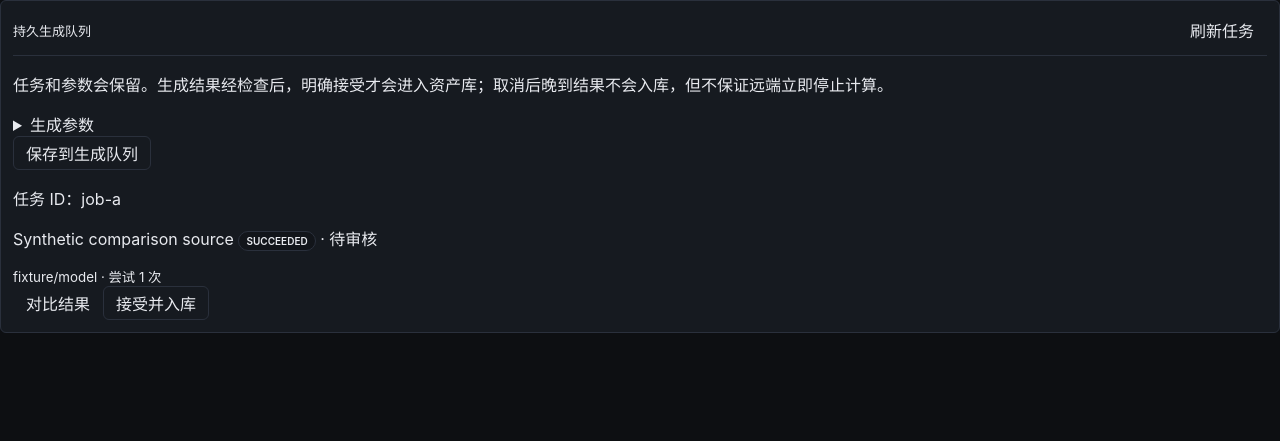
Test: keeps the old comparison entry metadata-only for PENDING candidates
Click the button "对比结果": coordinates (58, 303) [13,286,103,320]
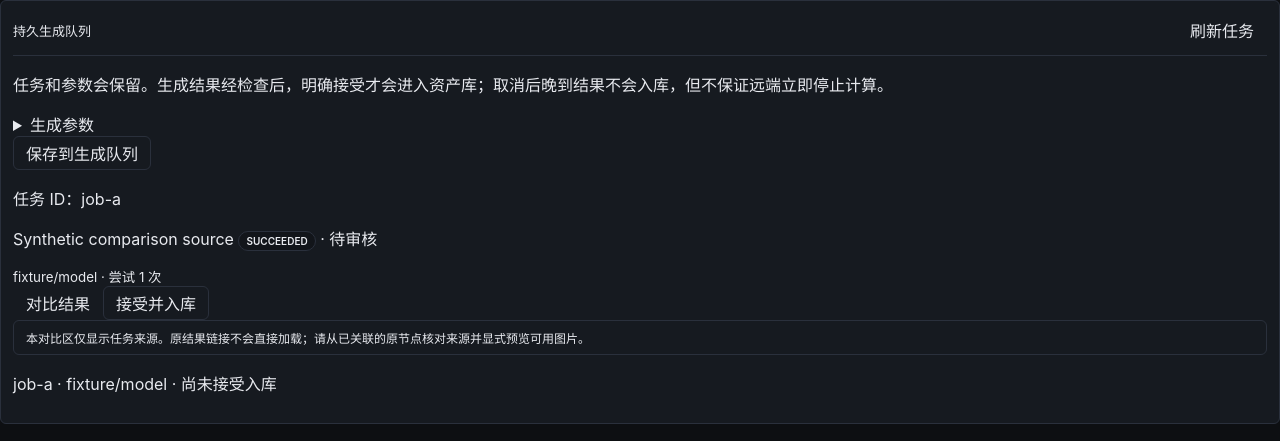
Check: the element named "图片结果对比" is shown, box [13,320,1267,395]
